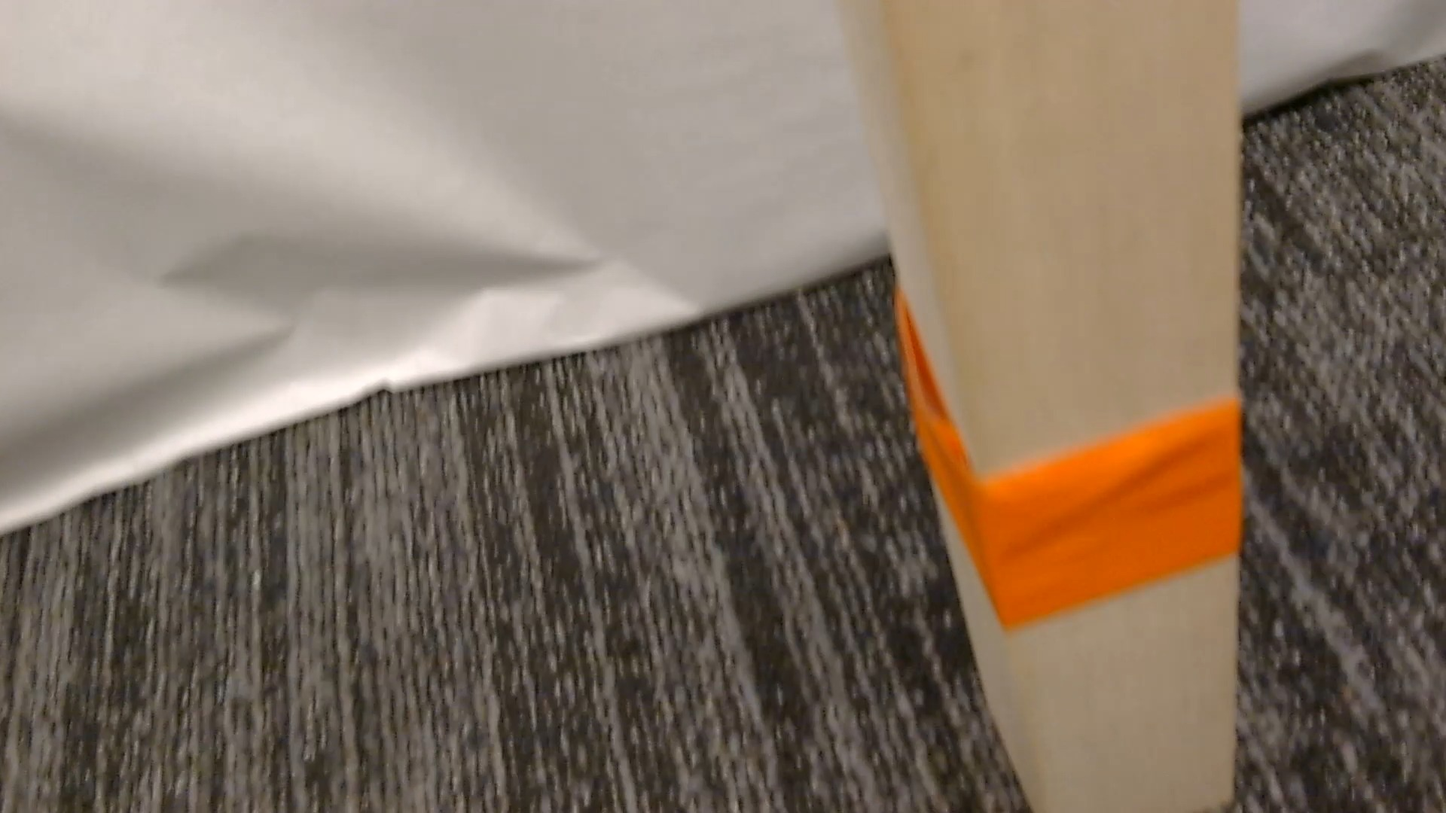Wooden Block: (841, 0, 1241, 812)
